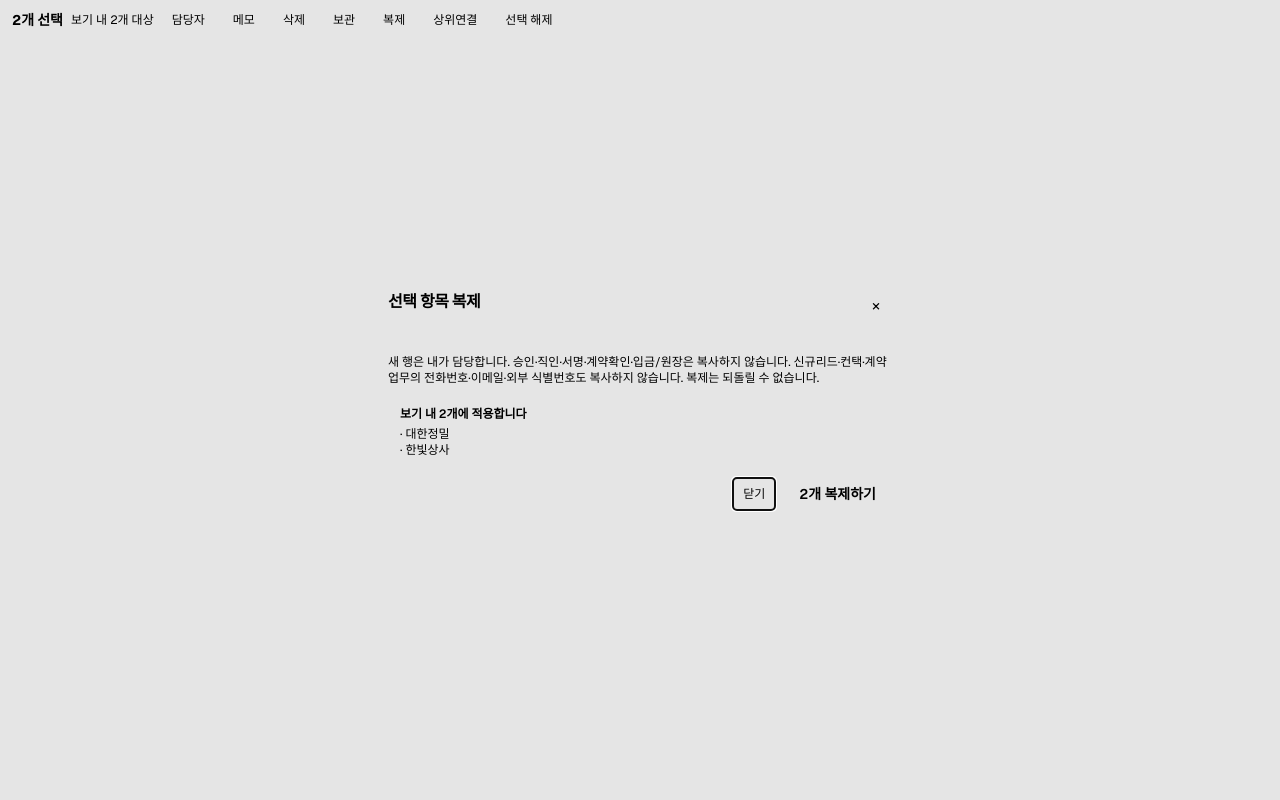
Test: keeps the dialog open while the save is in flight, including Escape
Click the button "2개 복제하기". click: (838, 494)
box: [783, 478, 892, 510]
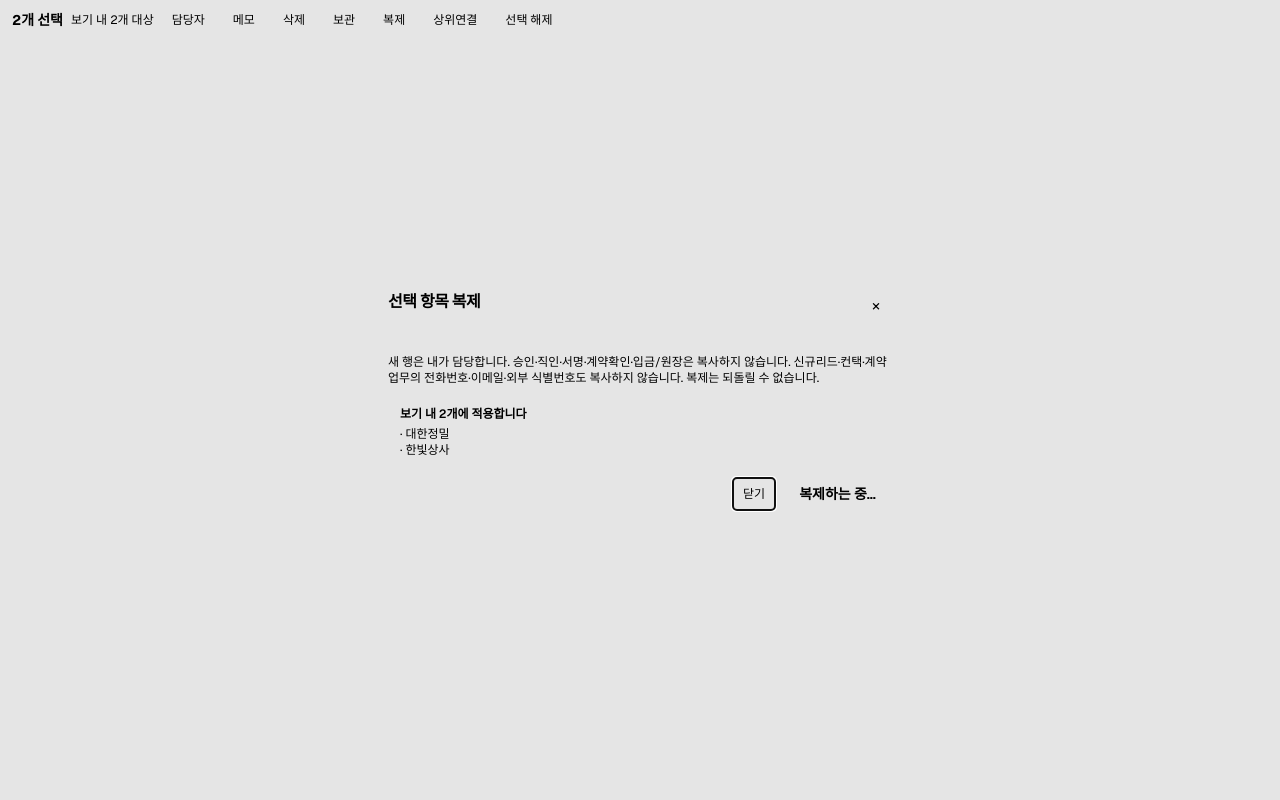
Click the button "닫기". click: (754, 494)
box: [733, 478, 775, 510]
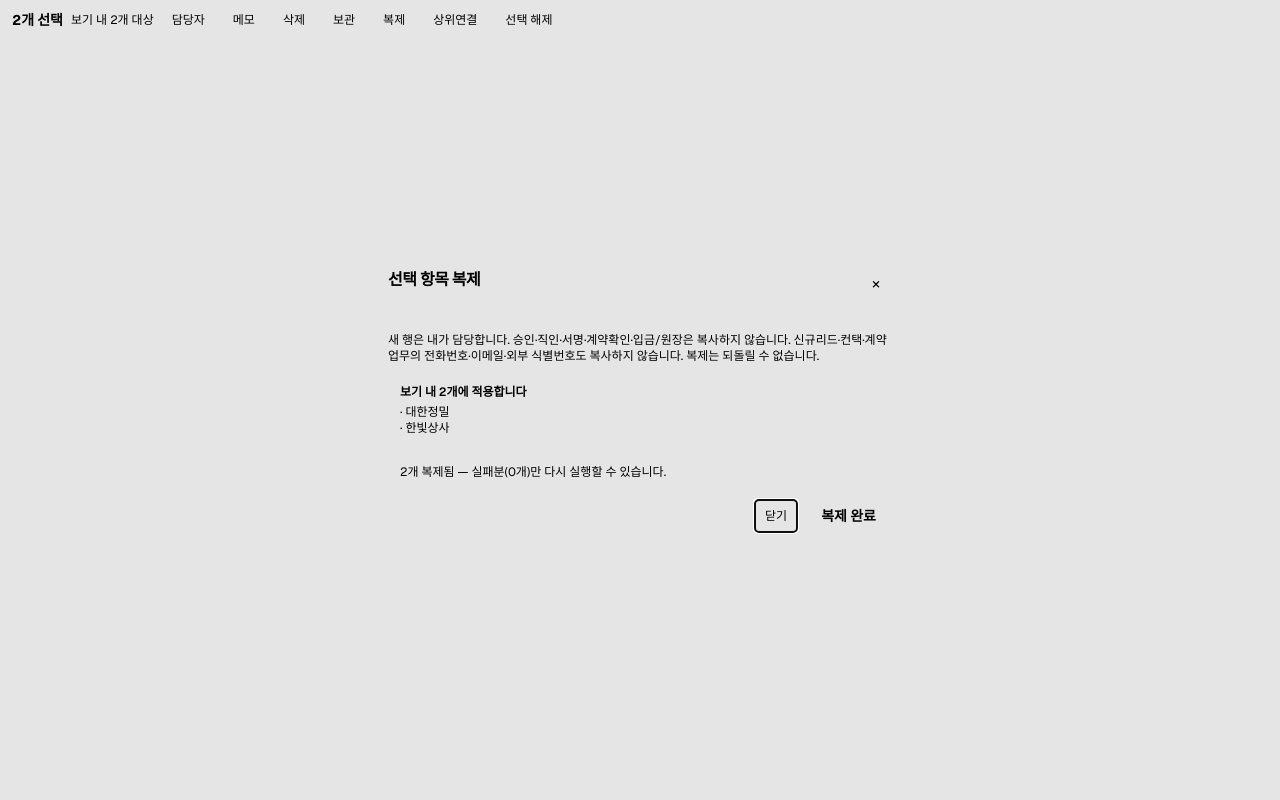
Expected: the dialog is shown, [368, 252, 912, 548]
Click the button "닫기". click: (776, 516)
box: [755, 500, 797, 532]
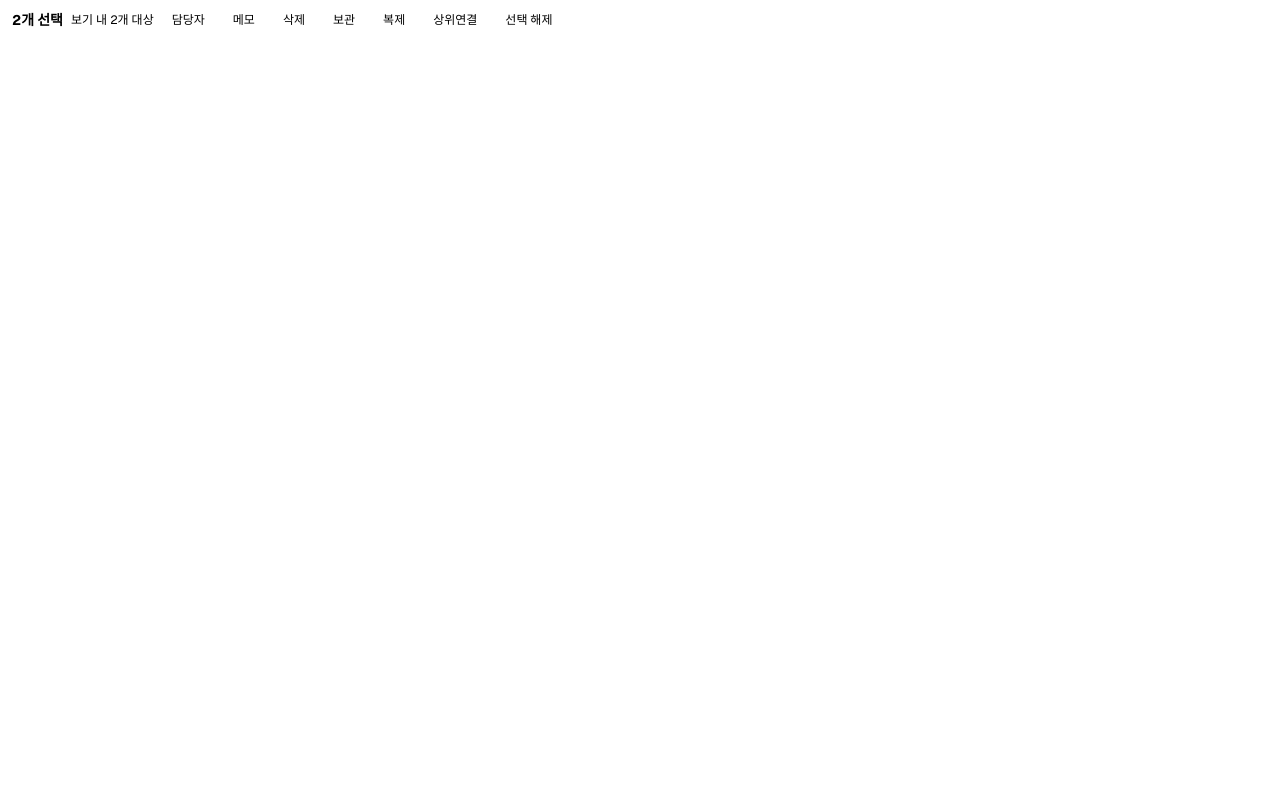
Now the dialog is gone
